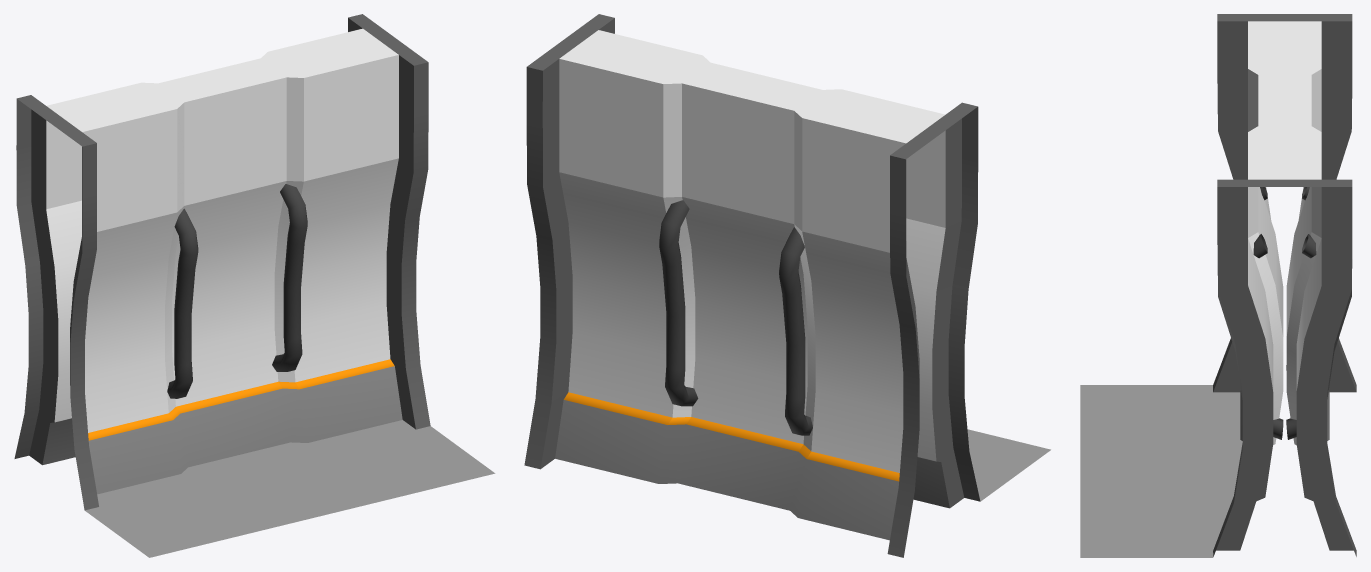
File: SM_ExteriorWall_04.fbx
3 views of the same model, side by side, from view 1: azimuth 30°, elevation 25°; view 2: azimuth 150°, elevation 25°; view 3: azimuth 270°, elevation 25° (orthographic). The views are drawn at different scales.
Visible parts, largest first — view 1: SM_ExteriorWall_04; view 2: SM_ExteriorWall_04; view 3: SM_ExteriorWall_04.
Part boxes in pixels (box(x1,y1,x2,y2)): SM_ExteriorWall_04: box(14, 14, 495, 557); SM_ExteriorWall_04: box(524, 14, 1050, 557); SM_ExteriorWall_04: box(1080, 14, 1356, 557).
Size of the model in its own units: 200 by 200 by 135.
1 material, 1 textured.
